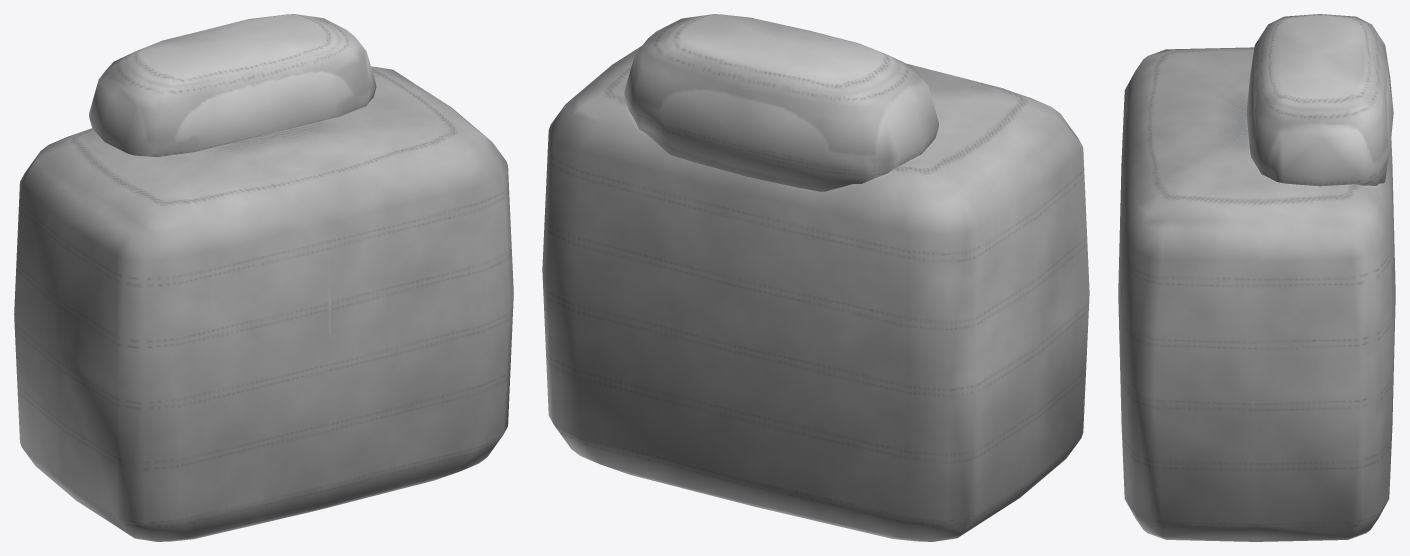
The model's file is UpperTorso_C1.fbx.
3 renders of one model, left to right at view 1: azimuth 30°, elevation 25°; view 2: azimuth 150°, elevation 25°; view 3: azimuth 270°, elevation 25°, orthographic. The views are drawn at different scales.
Parts seen in each view (by area): view 1: Civ_BuzoCapucha_UpperTorso_C1; view 2: Civ_BuzoCapucha_UpperTorso_C1; view 3: Civ_BuzoCapucha_UpperTorso_C1.
Boxes of the visible parts, <box> form: Civ_BuzoCapucha_UpperTorso_C1: <box>14,14,513,541</box>; Civ_BuzoCapucha_UpperTorso_C1: <box>542,14,1089,541</box>; Civ_BuzoCapucha_UpperTorso_C1: <box>1118,14,1395,541</box>.
Bounding box in the file's own units: 2.26 × 2.2 × 1.33.
